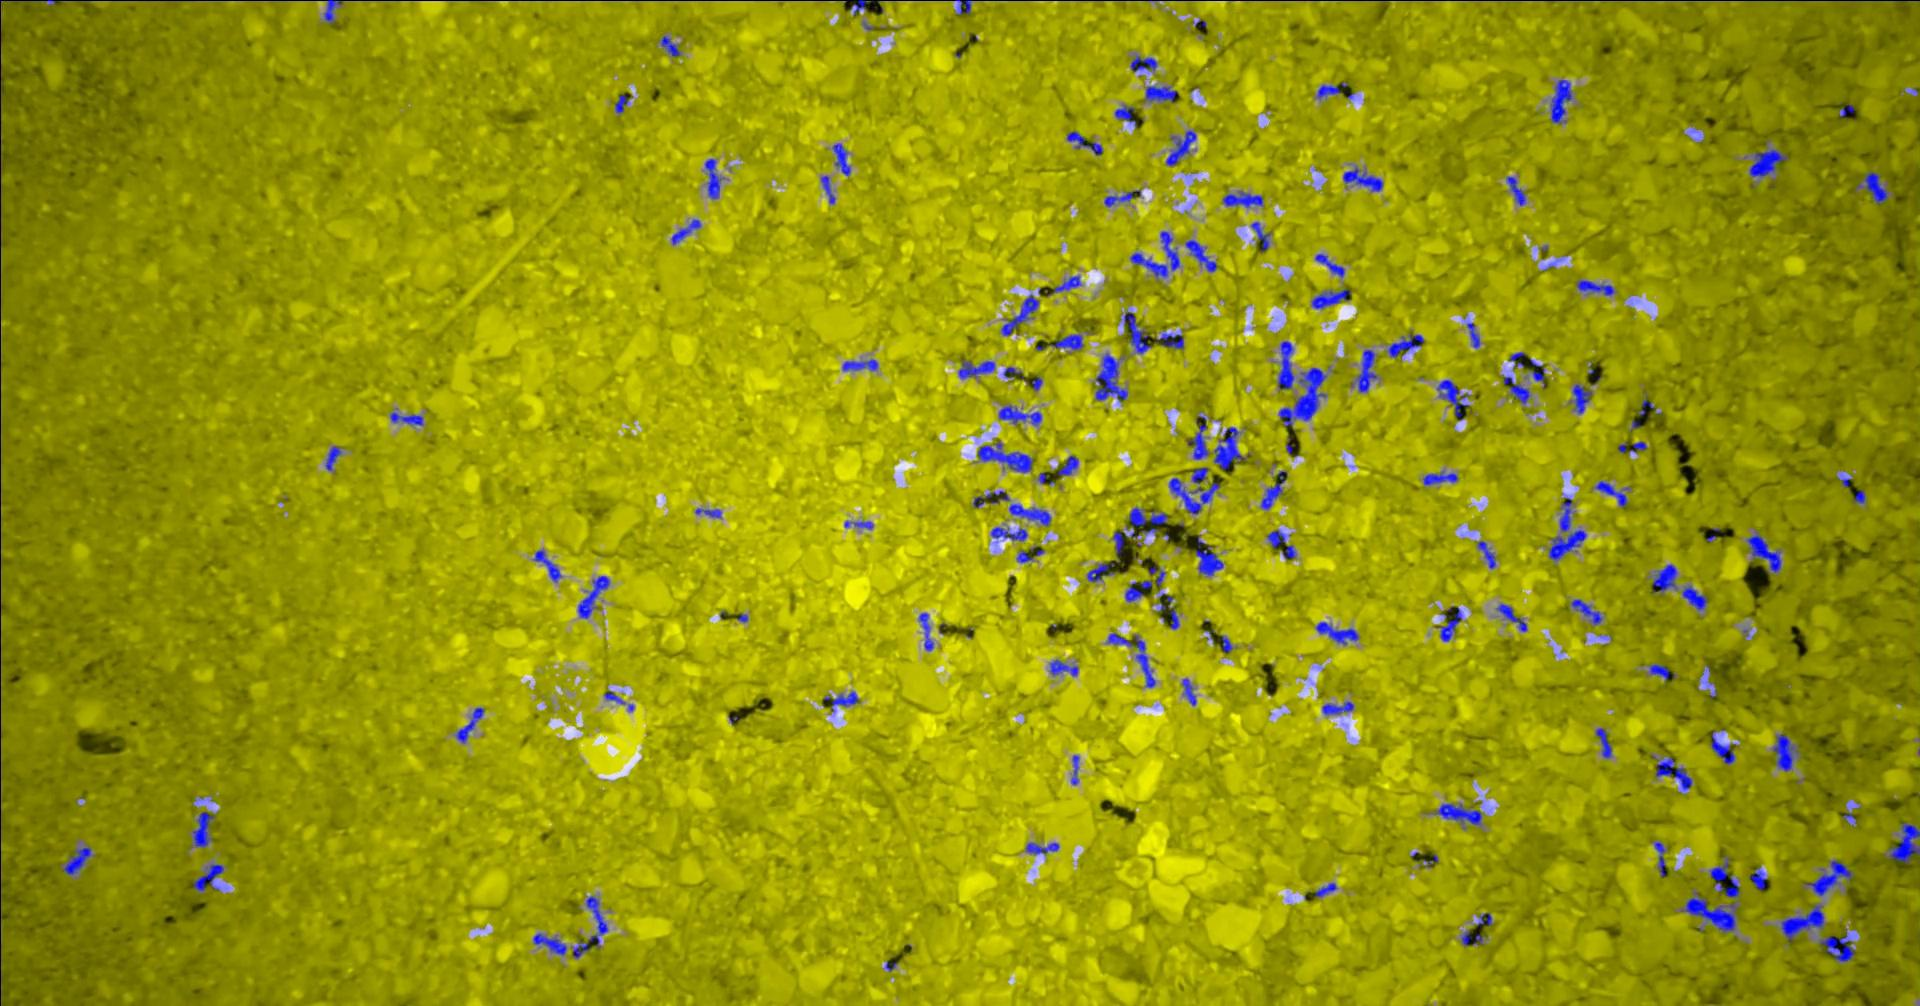ant: (1280, 367, 1327, 427), (1109, 633, 1157, 687), (1550, 497, 1589, 560), (1170, 467, 1222, 513), (1131, 231, 1181, 277), (1686, 895, 1737, 931), (1806, 860, 1855, 895), (979, 441, 1034, 473), (1003, 293, 1040, 335), (1215, 427, 1252, 469), (1782, 904, 1825, 940), (1097, 353, 1129, 401), (1126, 565, 1167, 601), (1437, 379, 1470, 420), (579, 575, 611, 619), (1749, 533, 1783, 572), (1710, 855, 1741, 897), (1130, 507, 1170, 537), (1891, 822, 1920, 862), (1657, 757, 1693, 790), (1821, 929, 1857, 962), (1125, 311, 1153, 353), (588, 895, 610, 948), (1197, 536, 1225, 575), (1167, 130, 1197, 165), (1751, 149, 1789, 177), (1858, 171, 1890, 205), (1262, 470, 1288, 509), (1317, 621, 1360, 644), (1437, 803, 1483, 824), (1343, 166, 1384, 191), (1187, 239, 1218, 271), (1552, 79, 1573, 123), (457, 708, 485, 742), (1774, 733, 1798, 770), (1011, 503, 1051, 525), (1439, 606, 1463, 641), (1357, 349, 1378, 391), (535, 550, 563, 580), (1597, 480, 1629, 507), (1390, 333, 1425, 357), (999, 405, 1043, 424), (1498, 603, 1528, 631), (196, 862, 225, 890), (1068, 131, 1103, 154), (1279, 340, 1295, 389), (1712, 730, 1736, 763), (194, 810, 216, 846), (1313, 288, 1352, 307), (63, 847, 91, 874), (673, 218, 702, 244), (1189, 424, 1210, 459), (1505, 376, 1531, 403), (1317, 253, 1346, 277), (1573, 600, 1603, 624), (825, 691, 860, 711), (960, 359, 996, 379), (706, 158, 723, 198), (535, 934, 568, 954), (1224, 191, 1263, 207), (1655, 564, 1677, 592), (974, 490, 1011, 507), (1106, 189, 1142, 206), (1578, 279, 1617, 295), (1683, 586, 1708, 608), (834, 144, 852, 175), (919, 614, 935, 650), (1253, 221, 1271, 251), (1088, 561, 1116, 580), (1147, 85, 1178, 102), (1575, 384, 1592, 413), (1318, 81, 1349, 98), (1051, 334, 1084, 349), (1509, 177, 1526, 205), (1479, 540, 1497, 568), (1597, 727, 1613, 758), (992, 527, 1029, 540), (1423, 471, 1459, 484), (1651, 663, 1676, 681), (392, 412, 424, 426), (1131, 55, 1158, 71), (1055, 276, 1082, 292), (1116, 105, 1138, 126), (325, 0, 344, 23), (1157, 333, 1185, 348), (1531, 358, 1547, 386), (1114, 531, 1128, 561), (1051, 659, 1079, 674), (1059, 455, 1079, 475), (1656, 841, 1667, 876), (1750, 866, 1768, 889), (844, 358, 879, 370), (822, 175, 836, 203), (663, 36, 682, 56), (1324, 701, 1355, 714), (1027, 842, 1060, 854), (1183, 678, 1197, 705), (328, 446, 343, 470), (1463, 929, 1484, 945), (1269, 530, 1288, 547), (1620, 441, 1648, 452), (1316, 882, 1338, 895), (1468, 323, 1481, 347), (852, 0, 872, 14), (1511, 351, 1528, 367), (1639, 398, 1655, 415), (606, 690, 626, 702), (846, 520, 874, 528), (616, 93, 629, 112), (956, 0, 973, 14), (574, 942, 590, 956), (697, 508, 723, 517), (1072, 754, 1079, 784), (1171, 607, 1181, 629), (1840, 103, 1857, 116), (1222, 635, 1234, 652), (1018, 550, 1035, 561), (1477, 913, 1493, 925), (1283, 545, 1297, 558), (1854, 490, 1867, 503)
